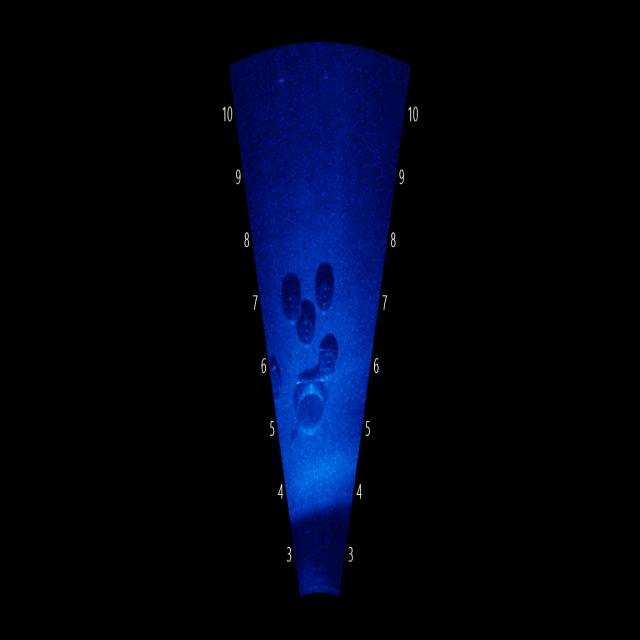circle: (288, 370, 330, 448), (279, 278, 305, 328), (313, 266, 335, 316), (314, 344, 341, 379)
